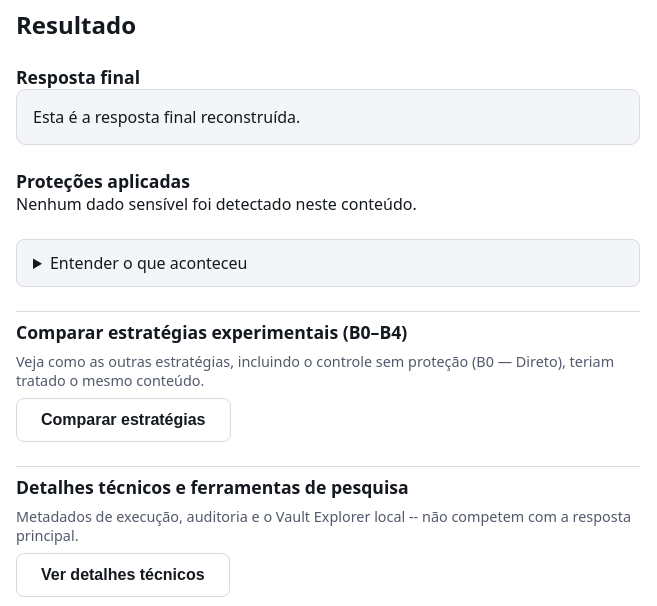
Test case: ResultScreen -- final answer is the primary output › renders the final answer directly, and the trust-boundary path once the 'entender o que aconteceu' disclosure is opened
Check: the text "Esta é a resposta final reconstruída." is shown, box [16, 89, 640, 145]
Check: the text "Provedor externo" is not shown
Click the heading "Entender o que aconteceu" at (149, 263), box [50, 252, 247, 274]
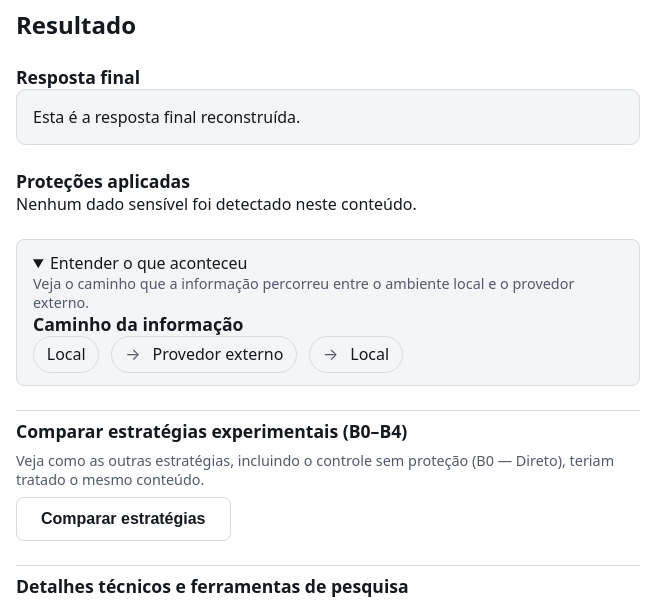
Check: the number of list items "Local" is 2, box [33, 336, 100, 373]; [309, 336, 403, 373]
Check: the list item "Provedor externo" is shown, box [112, 336, 297, 373]
